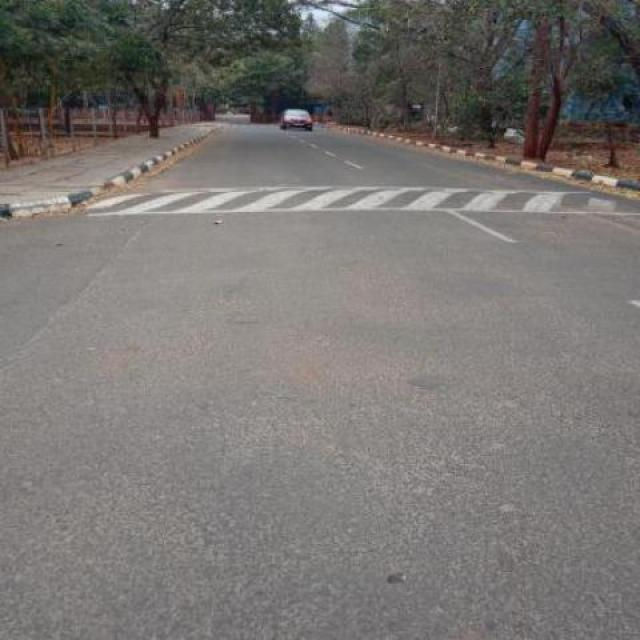Speed Bump: (77, 186, 639, 216)
